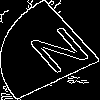N: (25, 25, 100, 84)
